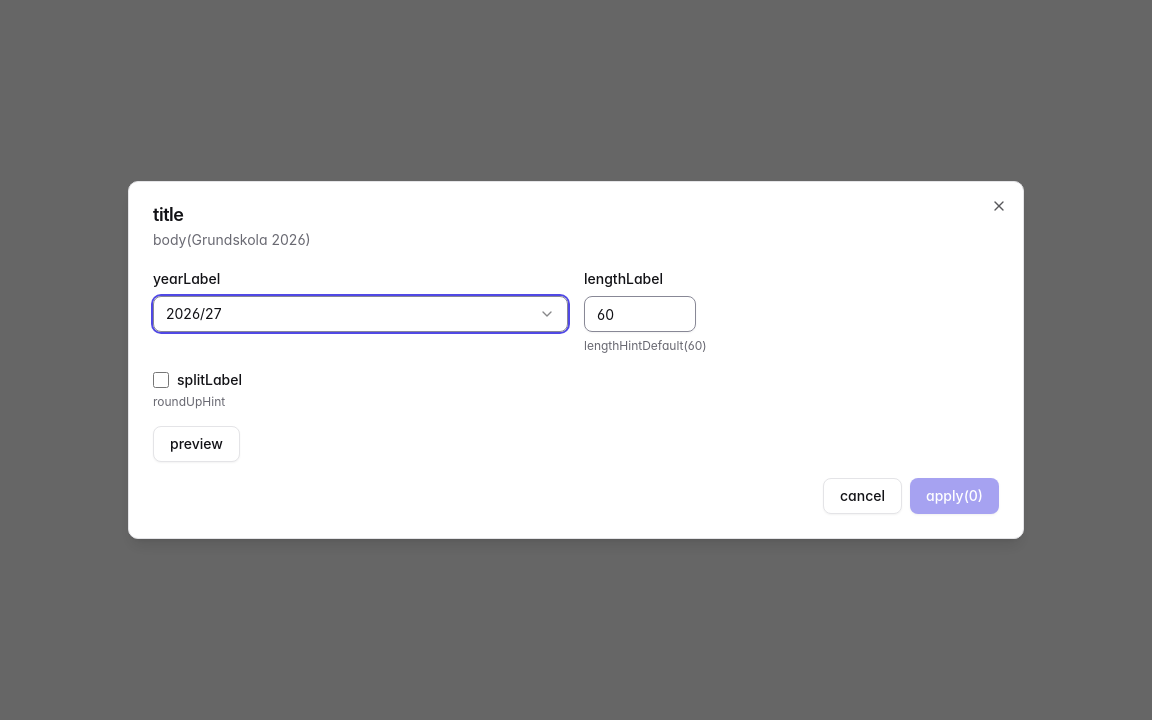
Scenario: GenerateDialog › sends the edited row as an override, and only that row, then shows what was created
Click the button "preview" at (196, 444), box top-left (153, 426), bottom-right (240, 462)
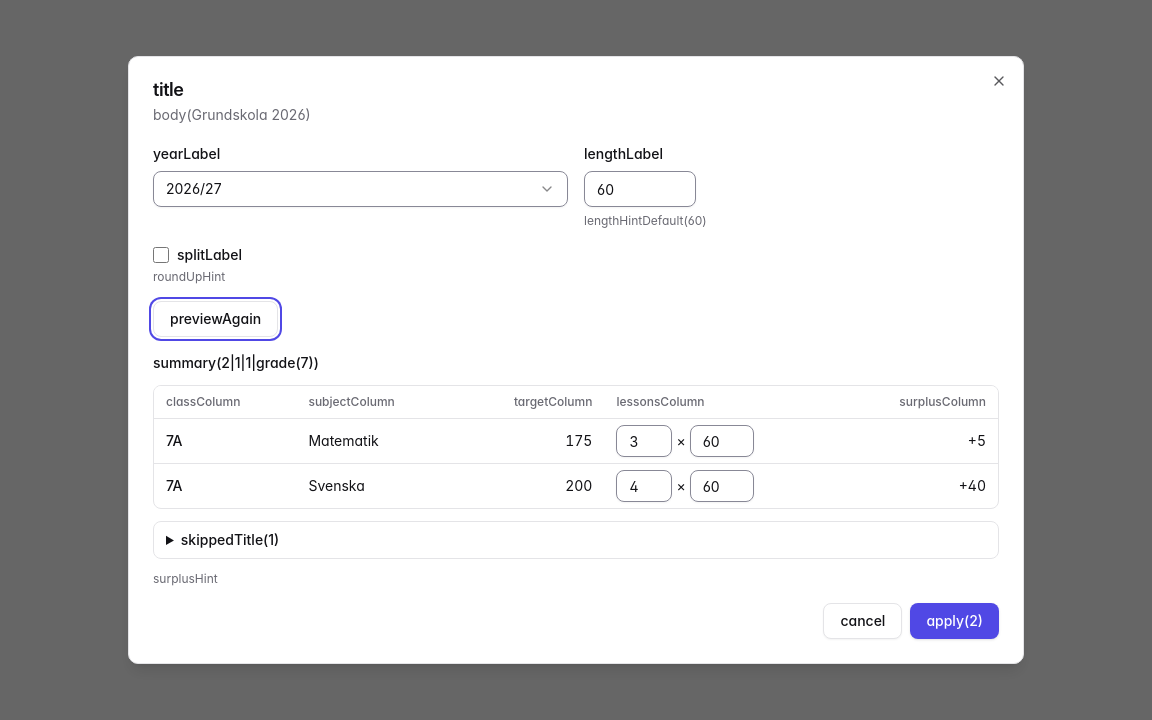
Result: the text "summary(2|1|1|grade(7))" is shown at top-left (153, 354), bottom-right (319, 371)
Clear the field named "lessonsFor(7A Matematik)" at (644, 441), box top-left (616, 425), bottom-right (672, 457)
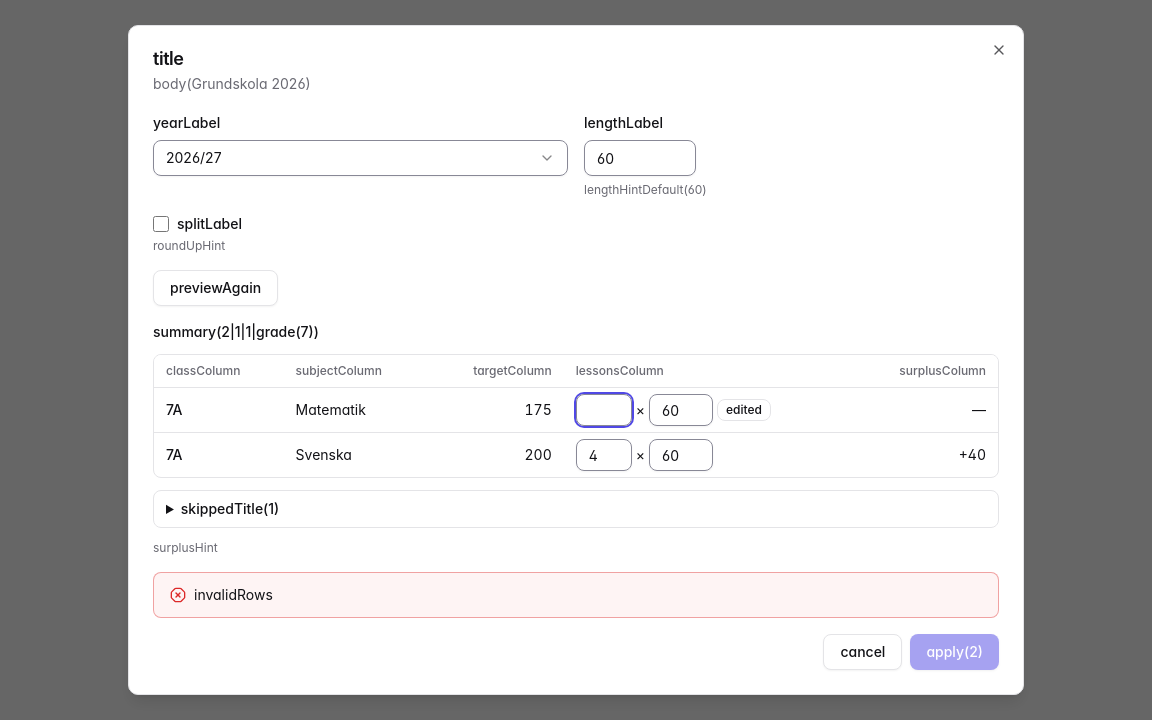
Type "5" into the field named "lessonsFor(7A Matematik)" at (604, 410), box top-left (576, 394), bottom-right (632, 426)
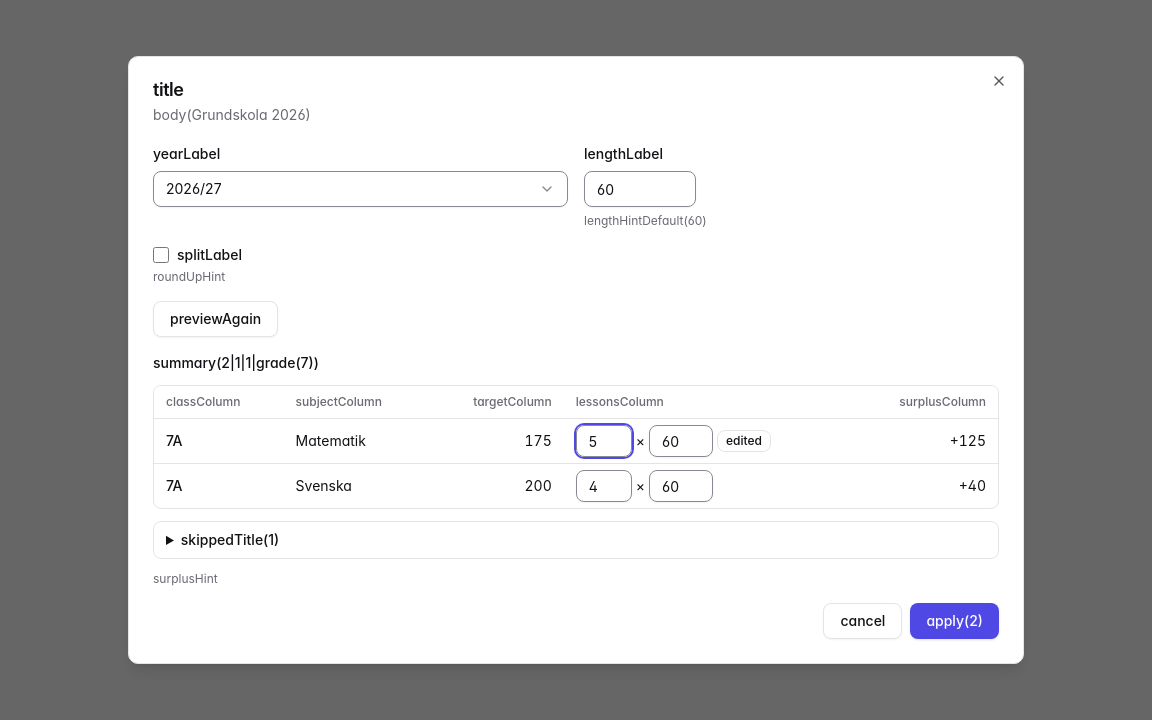
Clear the field named "minutesFor(7A Matematik)" at (681, 441), box top-left (649, 425), bottom-right (713, 457)
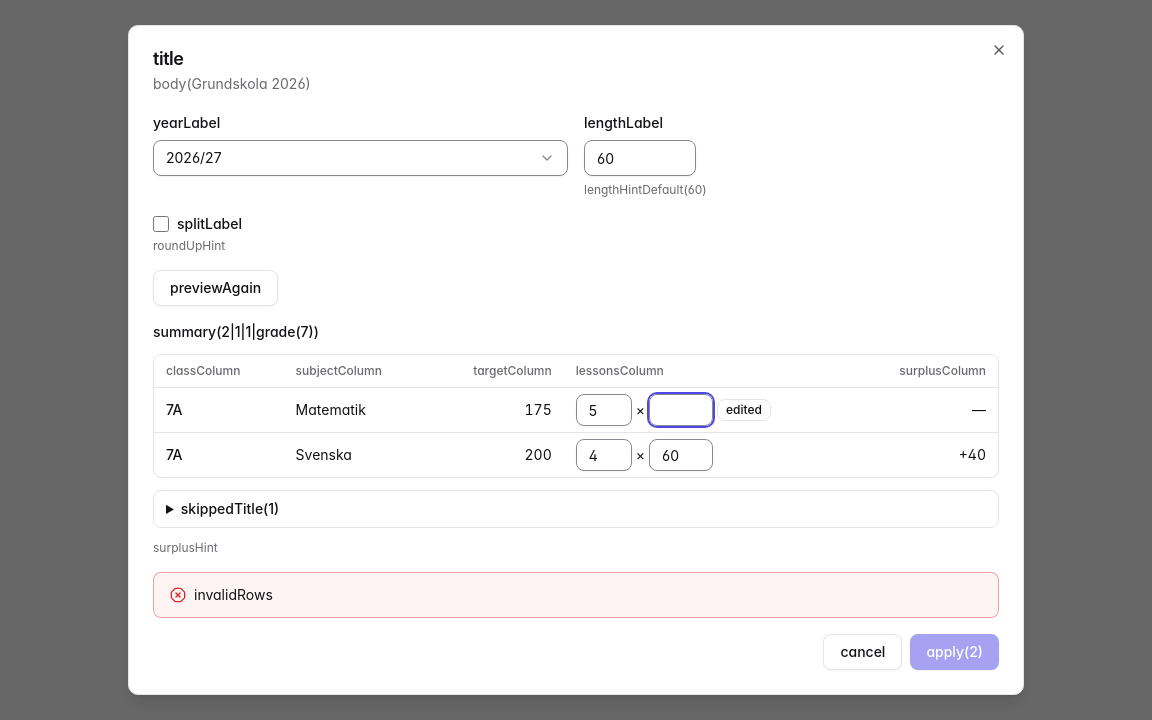
Type "35" into the field named "minutesFor(7A Matematik)" at (681, 410), box top-left (649, 394), bottom-right (713, 426)
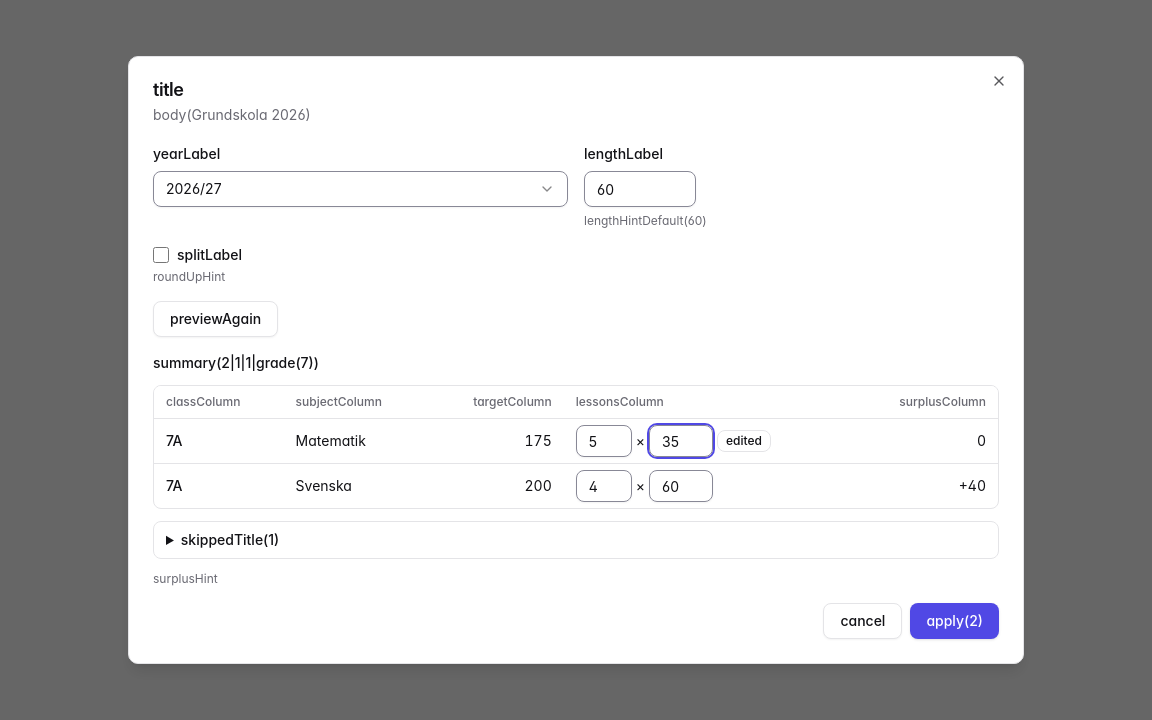
Result: the text "0" is shown at top-left (852, 419), bottom-right (998, 464)
Click the button "apply(2)" at (955, 621), box top-left (910, 603), bottom-right (999, 639)
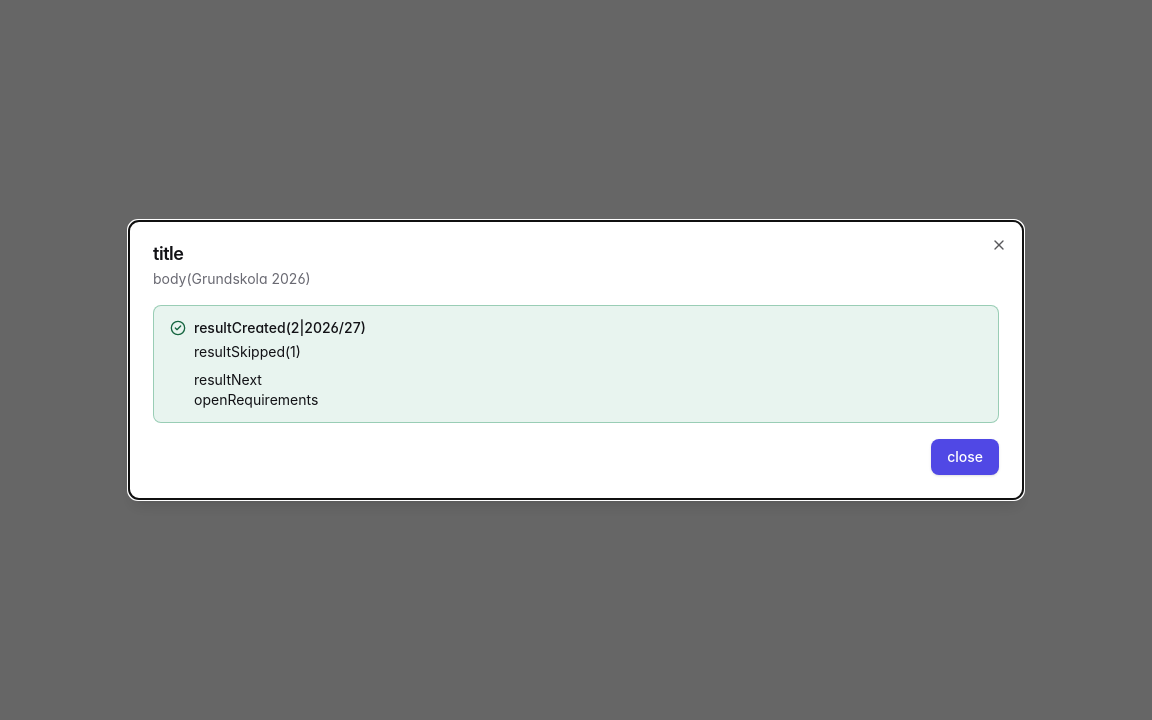
Result: the text "resultCreated(2|2026/27)" is shown at top-left (194, 319), bottom-right (366, 336)
Result: the text "resultSkipped(1)" is shown at top-left (194, 343), bottom-right (301, 360)
